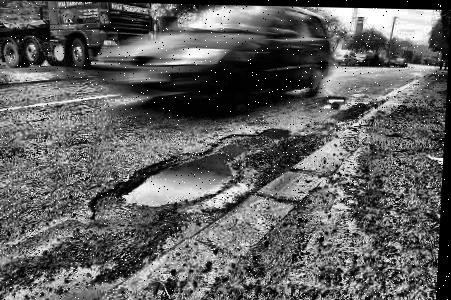pothole: (115, 120, 297, 209), (320, 92, 348, 107)
